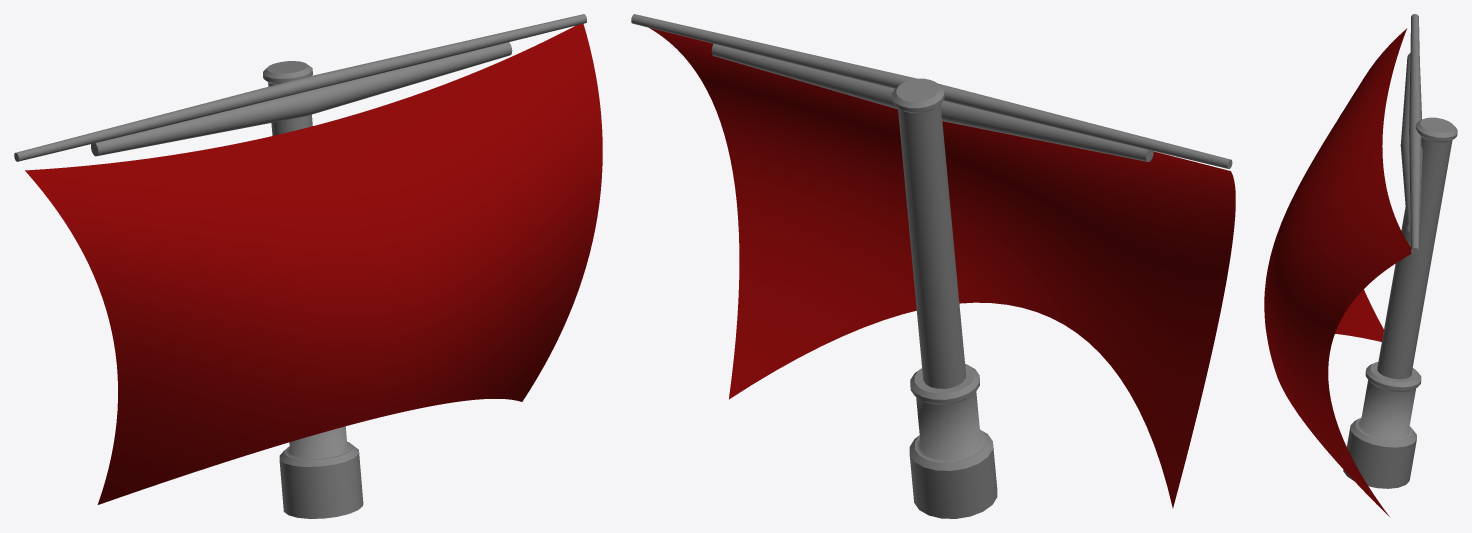
The model's file is MastBow.fbx.
3 renders of one model, left to right at view 1: azimuth 30°, elevation 25°; view 2: azimuth 150°, elevation 25°; view 3: azimuth 270°, elevation 25°, orthographic. The views are drawn at different scales.
Parts seen in each view (by area): view 1: Cylinder006; view 2: Cylinder006; view 3: Cylinder006.
Boxes of the visible parts, x1,y1,x2,y2 form: Cylinder006: [14, 14, 602, 518]; Cylinder006: [631, 14, 1235, 518]; Cylinder006: [1264, 14, 1457, 516].
Size of the model in its own units: 25.28 by 17.92 by 8.83.
